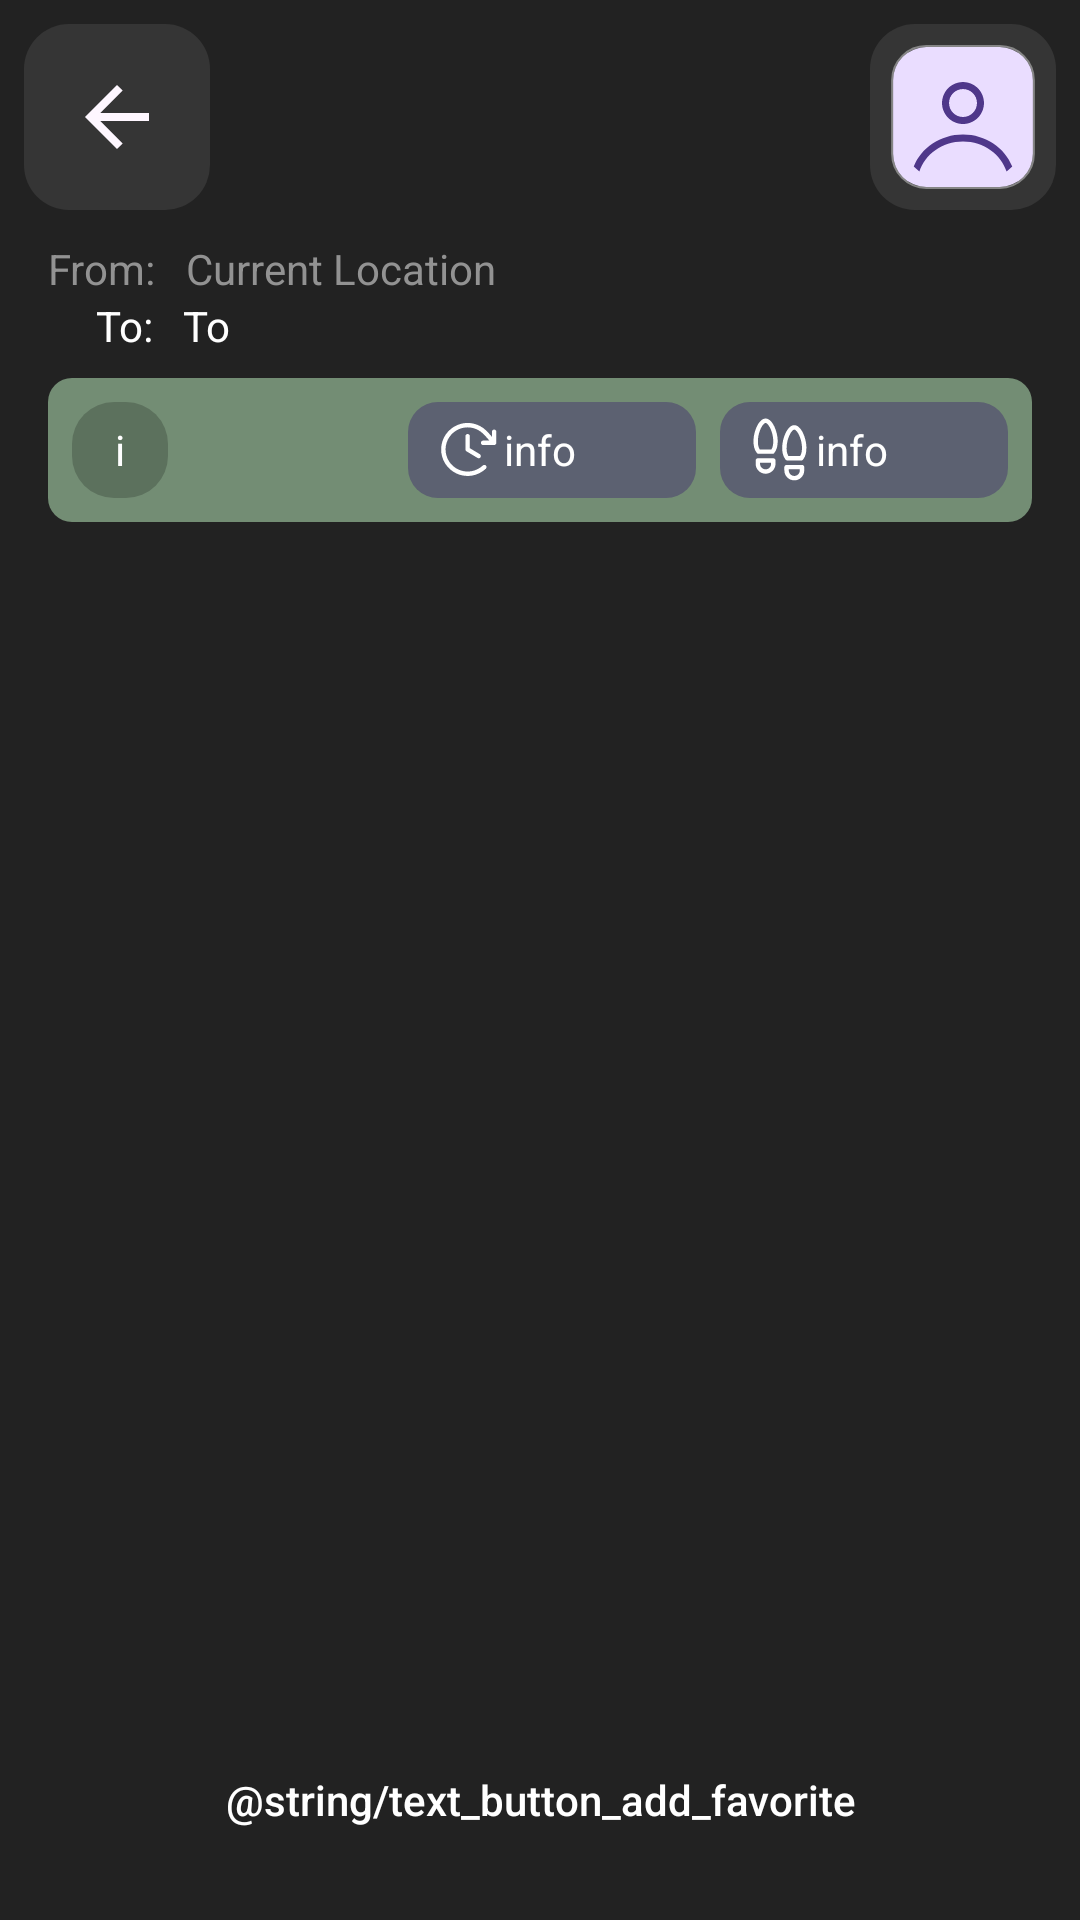

Point at icon controls on the screen. Image size 1080*1920, points as point (x, y).
Button back: point (117, 117)
steps: point (780, 449)
